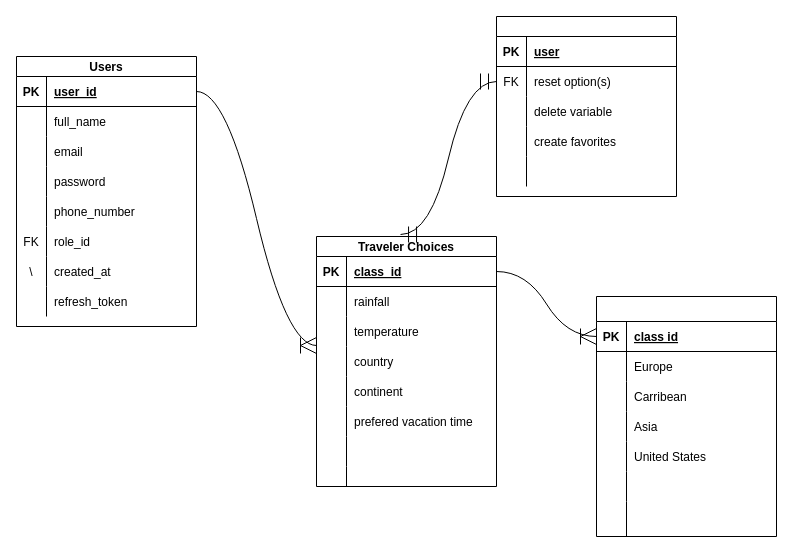
Some shapes in this 793 by 553 pixel diagram are drawn without their labels. Each missing label, with the box of its shape:
Locations: (596, 296, 776, 536)
User Options: (496, 16, 676, 196)
